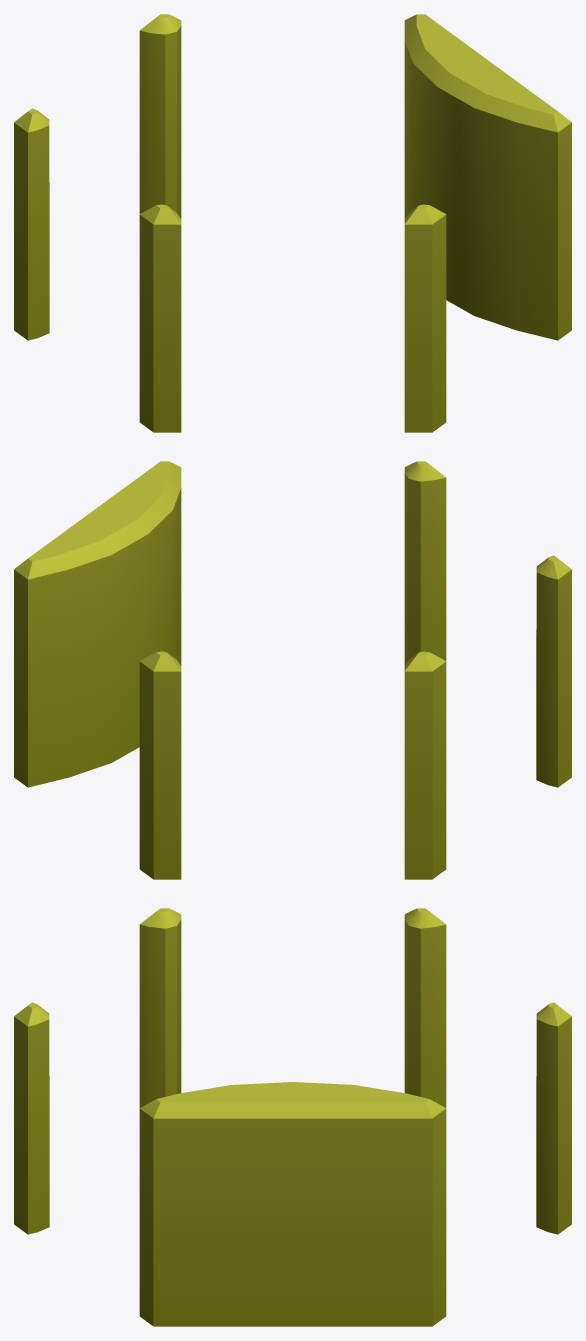
Rendered from hex_river_K_waterless.glb.
3 renders of one model, top to bottom at view 1: azimuth 30°, elevation 25°; view 2: azimuth 150°, elevation 25°; view 3: azimuth 270°, elevation 25°, orthographic.
Visible parts, largest first — view 1: hex_river_K_waterless; view 2: hex_river_K_waterless; view 3: hex_river_K_waterless.
Boxes of the visible parts, x1=… form: hex_river_K_waterless: x1=14, y1=14, x2=571, y2=432; hex_river_K_waterless: x1=14, y1=461, x2=571, y2=879; hex_river_K_waterless: x1=14, y1=908, x2=571, y2=1326.
Size of the model in its own units: 2 by 1 by 2.31.
Materials: 1 (1 with a texture image).
